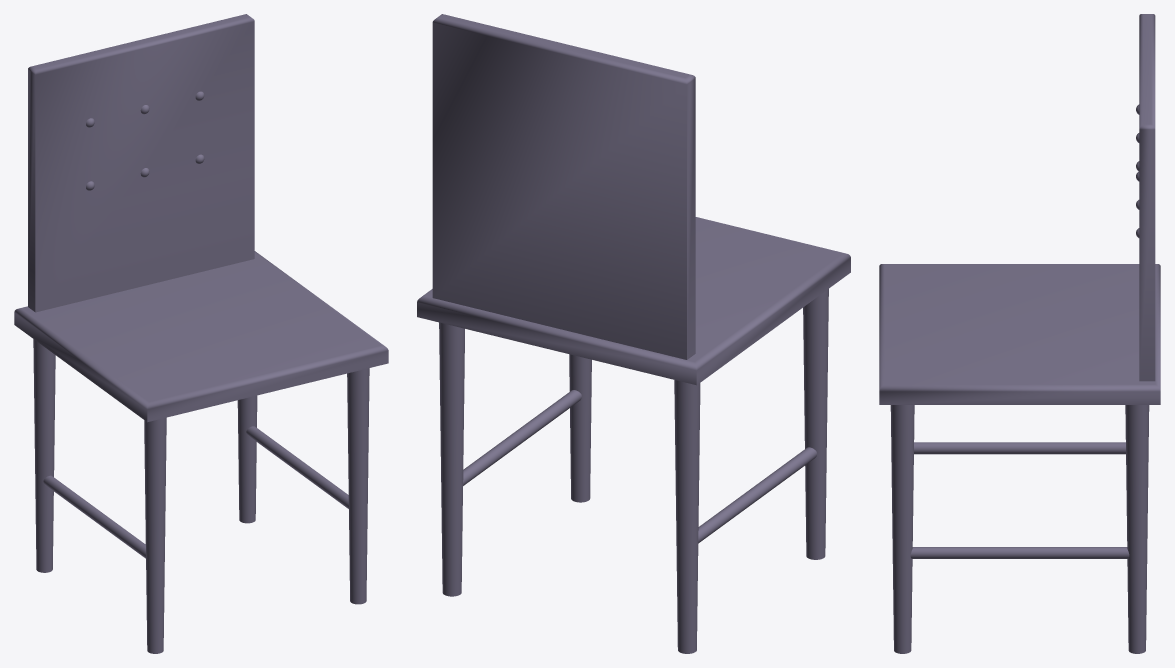
File: start_chair.glb
The picture shows the model from 3 angles, left to right: view 1: azimuth 30°, elevation 25°; view 2: azimuth 150°, elevation 25°; view 3: azimuth 270°, elevation 25°; orthographic projection. The views are drawn at different scales.
Visible parts, largest first — view 1: back; view 2: back; view 3: back.
Boxes of the visible parts, x1,y1,x2,y2 form: back: [14, 14, 388, 653]; back: [417, 14, 850, 653]; back: [879, 14, 1160, 653].
Size of the model in its own units: 0.44 by 0.87 by 0.42.
